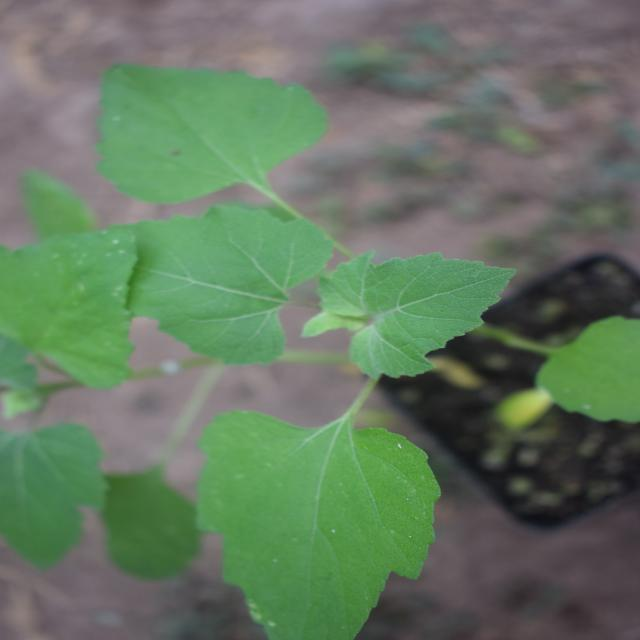cocklebur: (21, 33, 565, 490)
